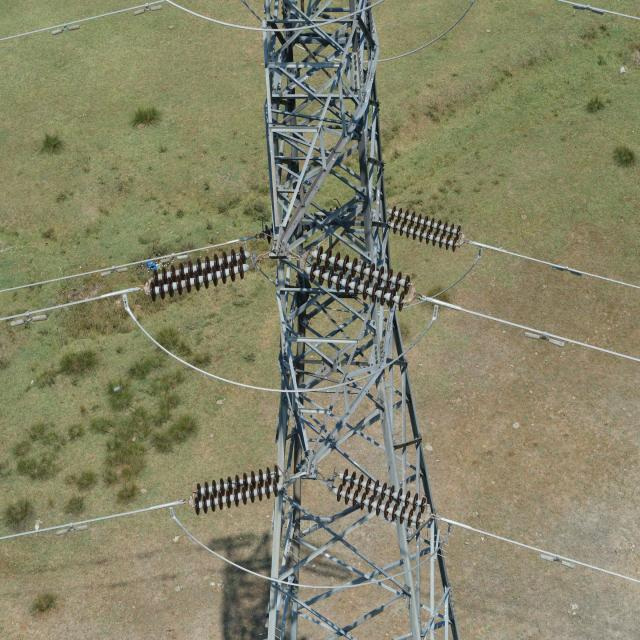direk: (259, 11, 461, 640)
